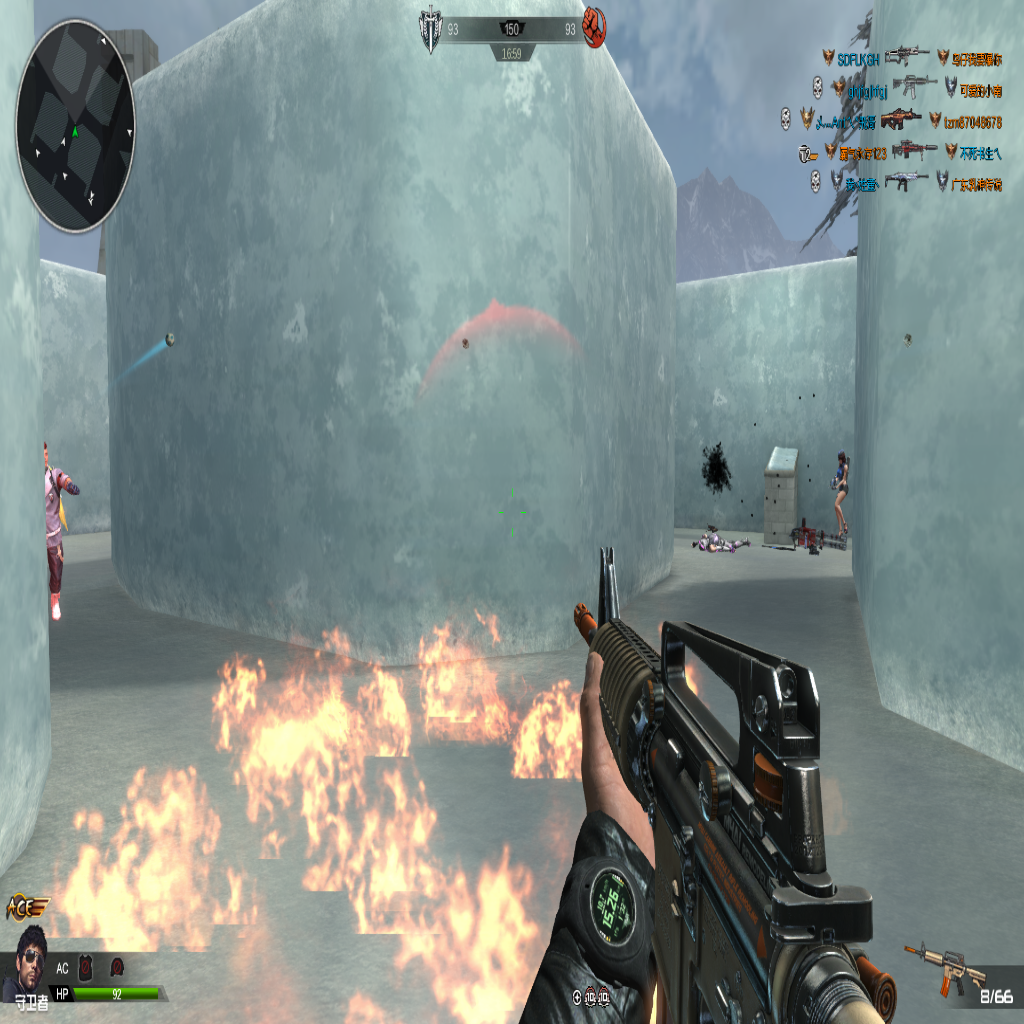tt: (45, 438, 75, 618)
